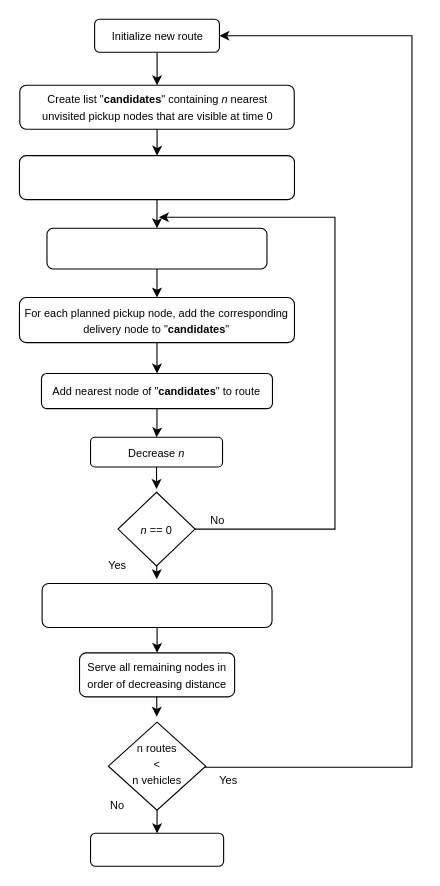
The diagram is 440 pixels wide and 886 high, and some of its shapes have lost their labels. The centre of each missing label's shape, as x and y in pixels:
End NN solution: [156,849]
Remove nearest node to depot from " candidates " and add it to route: [156,177]
Update " candidates " so that it contains all remaining delivery nodes: [156,605]
Update list of " candidates " with the visible pickup nodes: [156,248]
